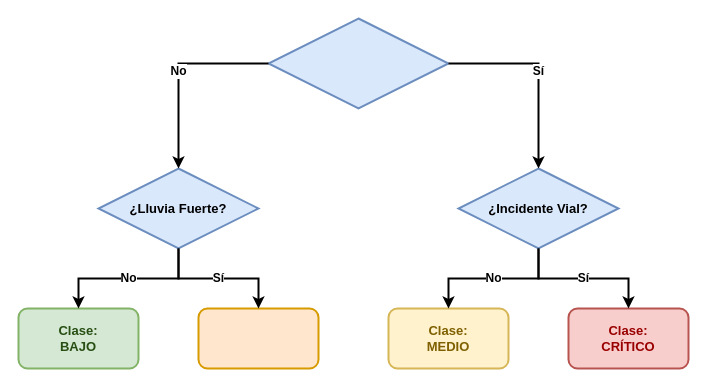
This 706x386 diagram has some shape labels left out. The centre of each missing label's shape, as x and y in pixels:
Clase: ALTO: (x=258, y=338)
¿Afluencia Pasajeros > Umbral?: (x=358, y=63)
